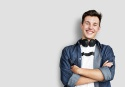male: (80, 11, 101, 40)
